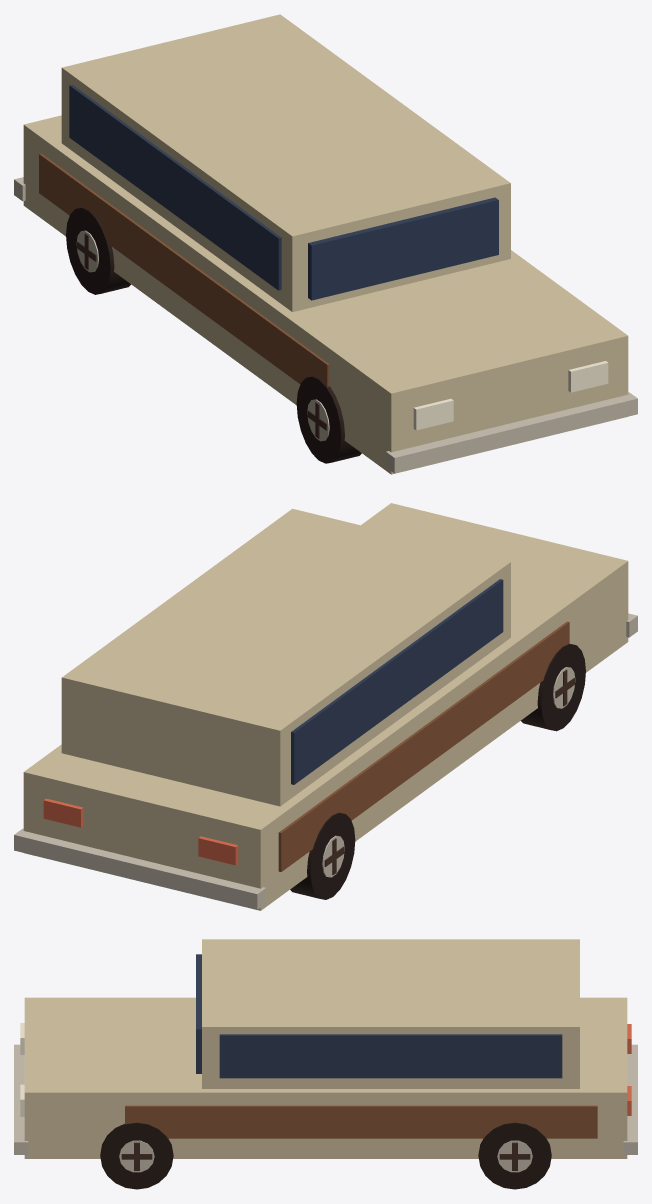
File: wagon.glb
3 views of the same model, one above another, from view 1: azimuth 30°, elevation 25°; view 2: azimuth 150°, elevation 25°; view 3: azimuth 270°, elevation 25° (orthographic). The views are drawn at different scales.
Visible parts, largest first — view 1: Box3, Box1, Box4, Box2, Box5, Box6, Part4, Part2, Box10, Box8; view 2: Box3, Box1, Box4, Box2, Box7, Part2, Part4, Box11, Box9; view 3: Box1, Box3, Box4, Box2, Part8, Part6, Box7, Box6, Box5.
Boxes of the visible parts, box(x1,y1,x2,y2) form: Box3: box(61, 14, 510, 311); Box1: box(23, 115, 628, 474); Box4: box(69, 84, 281, 290); Box2: box(39, 153, 329, 386); Box5: box(308, 197, 498, 300); Box6: box(386, 392, 637, 473); Part4: box(296, 376, 361, 463); Part2: box(66, 207, 130, 294); Box10: box(568, 361, 608, 392); Box8: box(413, 398, 453, 430); Box3: box(61, 508, 510, 806); Box1: box(23, 503, 628, 910); Box4: box(291, 579, 503, 784); Box2: box(278, 621, 569, 871); Box7: box(14, 828, 265, 909); Part2: box(290, 812, 355, 899); Part4: box(521, 644, 585, 731); Box11: box(43, 798, 83, 827); Box9: box(198, 836, 238, 865); Box1: box(24, 997, 627, 1158); Box3: box(202, 939, 579, 1088); Box4: box(219, 1034, 562, 1078); Box2: box(125, 1105, 597, 1138); Part8: box(100, 1122, 173, 1189); Part6: box(478, 1122, 551, 1189); Box7: box(623, 1044, 637, 1154); Box6: box(14, 1044, 28, 1154); Box5: box(196, 954, 201, 1073).
Bounding box in the file's own units: 1.99 × 1.47 × 5.28.
